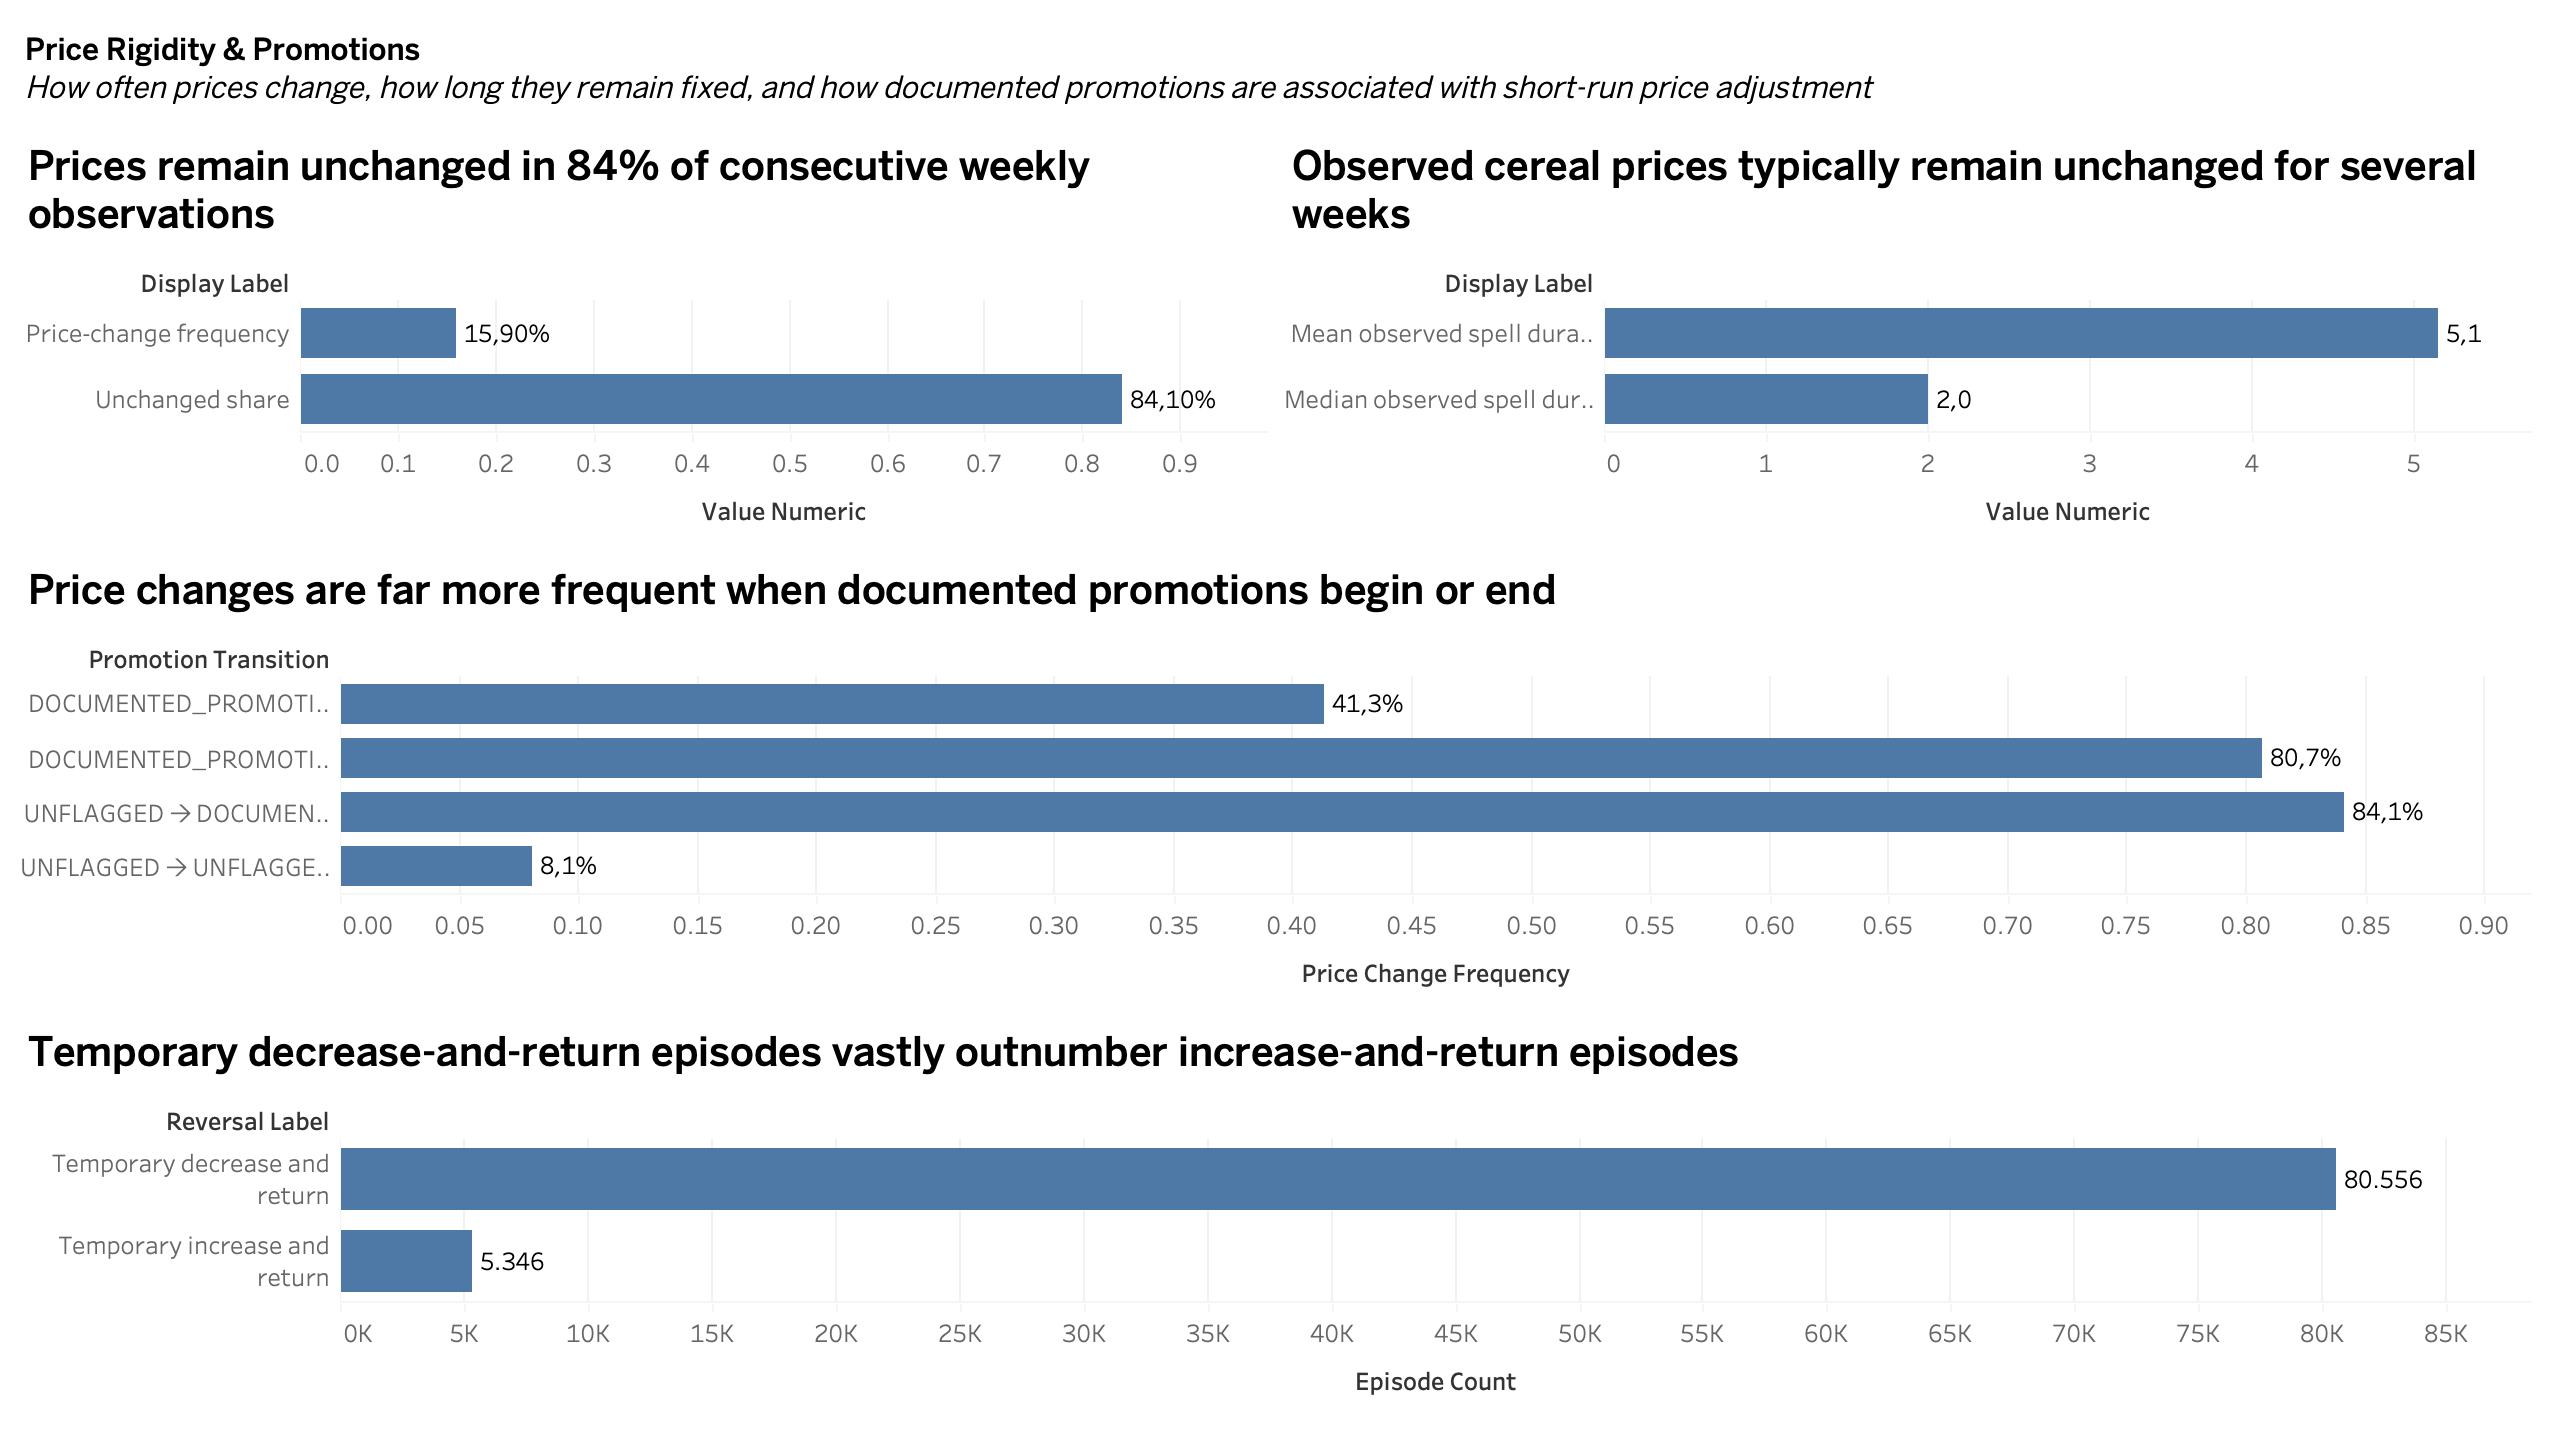

Layout of this report page (visuals, bound fields, positions):
{"tool":"tableau","page":{"name":"03 - Price Rigidity & Promotions","canvas":[1280,720],"ordinal":2},"visuals":[{"type":"text","box":[8,8,1264,57]},{"type":"worksheet","title":"Rigidity - Changed vs Unchanged","mark":"Bar","rows":["display_label"],"cols":["value_numeric"],"box":[8,65,632,212]},{"type":"worksheet","title":"Rigidity - Price Spell Duration","mark":"Bar","rows":["display_label"],"cols":["value_numeric"],"box":[640,65,632,212]},{"type":"worksheet","title":"Rigidity - Promotion Transitions","mark":"Automatic","rows":["promotion_transition"],"cols":["price_change_frequency"],"box":[8,277,1264,231.5]},{"type":"worksheet","title":"Rigidity - Reversal Comparison","mark":"Automatic","rows":["reversal_label"],"cols":["episode_count"],"box":[8,508.5,1264,203.5]}]}

Visuals, with their boxes in screenshot pixels (x1, y1, x2, y2), scaled from the page's 1280x720 canvas onto the 2552x1432 screenshot:
text: 16:16:2536:129
"Rigidity - Changed vs Unchanged" worksheet (Bar marks): 16:129:1276:551
"Rigidity - Price Spell Duration" worksheet (Bar marks): 1276:129:2536:551
"Rigidity - Promotion Transitions" worksheet: 16:551:2536:1011
"Rigidity - Reversal Comparison" worksheet: 16:1011:2536:1416
